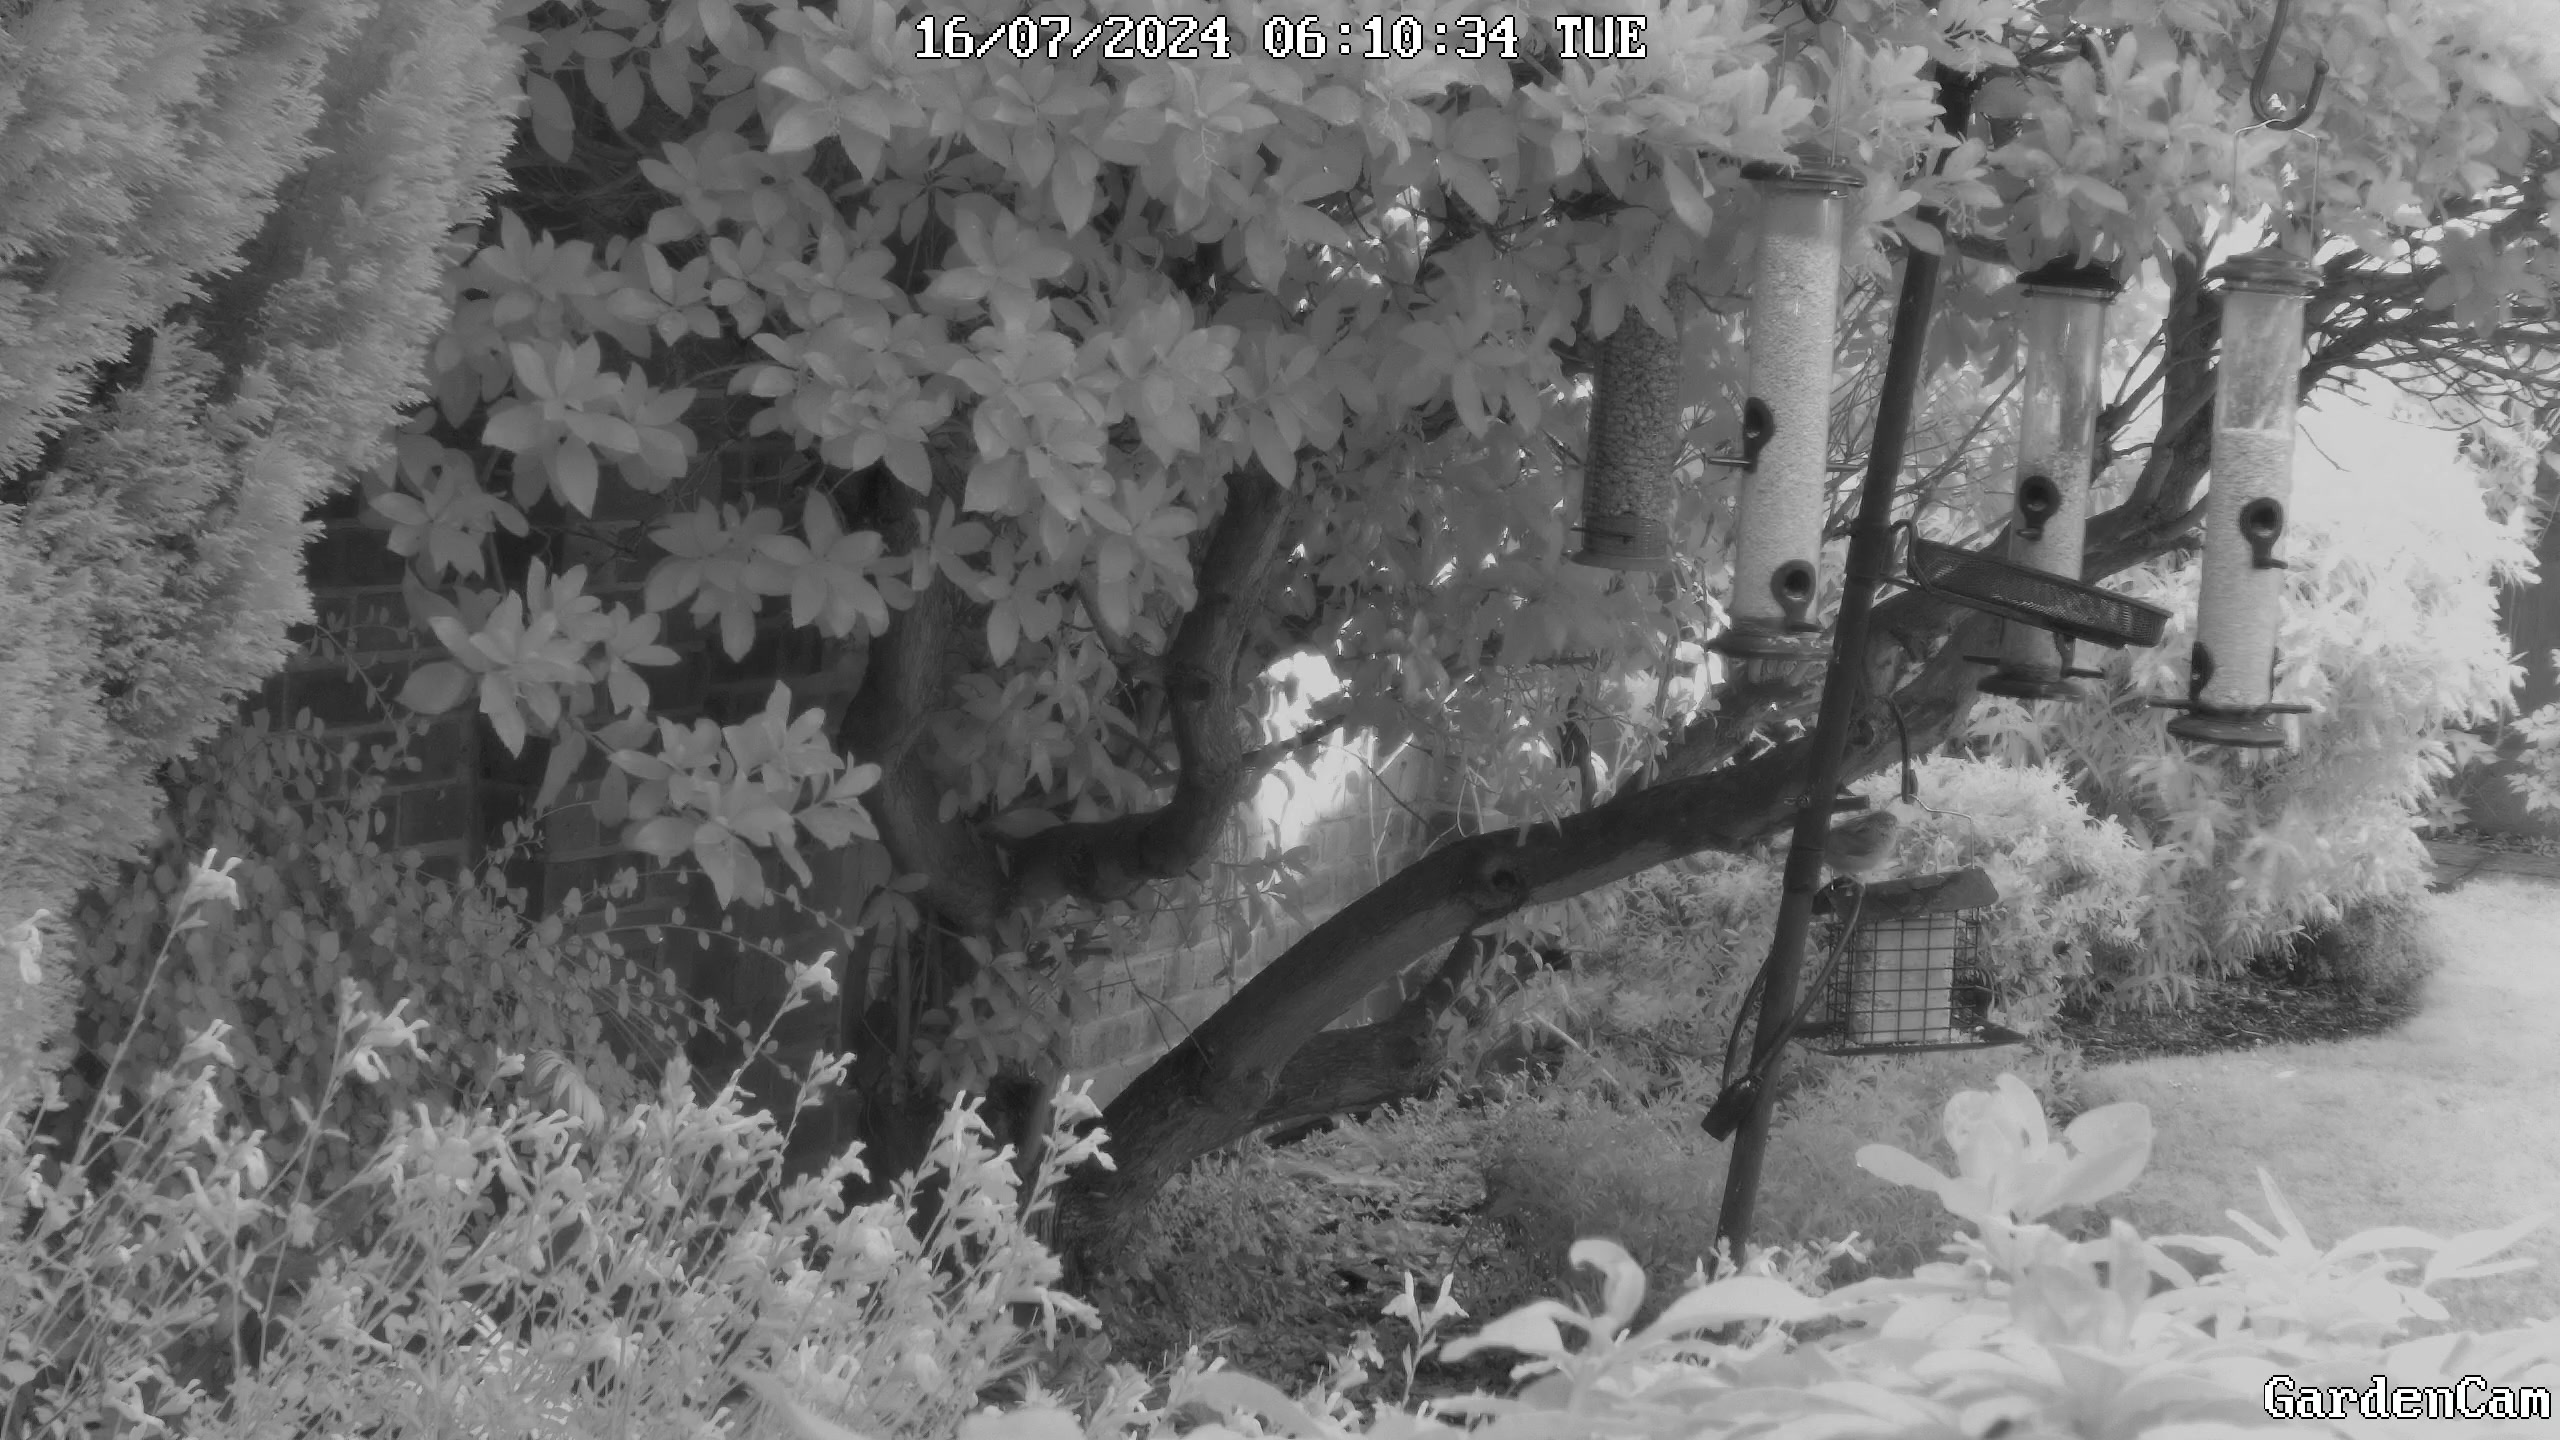Robin: (1776, 804, 1906, 883)
